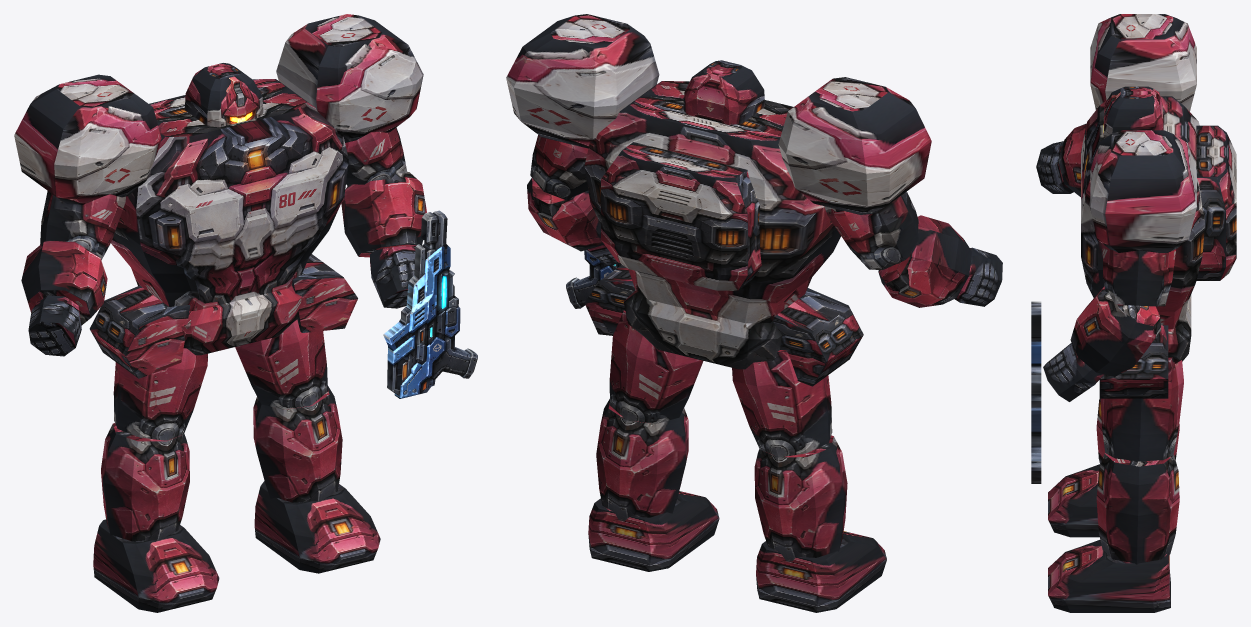
File: painted-bulwark-heavy-v1.glb
3 views of the same model, side by side, from view 1: azimuth 30°, elevation 25°; view 2: azimuth 150°, elevation 25°; view 3: azimuth 270°, elevation 25° (orthographic). The views are drawn at different scales.
Visible parts, largest first — view 1: CORE_chest, CORE_upper_arm.R, CORE_upper_arm.L, CORE_pelvis, CORE_hand.L, CORE_shin.R, CORE_shin.L, CORE_foot.R, CORE_foot.L, CORE_thigh.R, CORE_thigh.L, CORE_forearm.L (+3 smaller); view 2: CORE_chest, CORE_upper_arm.R, CORE_upper_arm.L, CORE_pelvis, CORE_shin.R, CORE_shin.L, CORE_thigh.R, CORE_foot.R, CORE_foot.L, CORE_thigh.L, CORE_forearm.R, CORE_head (+3 smaller); view 3: CORE_upper_arm.L, CORE_chest, CORE_upper_arm.R, CORE_shin.L, CORE_foot.L, CORE_thigh.L, CORE_forearm.L, CORE_hand.L, CORE_pelvis, CORE_foot.R, CORE_head, CORE_forearm.R (+2 smaller).
Boxes of the visible parts, <box> form: CORE_chest: <box>111,79,348,310</box>; CORE_upper_arm.R: <box>14,74,161,260</box>; CORE_upper_arm.L: <box>276,14,423,185</box>; CORE_pelvis: <box>89,254,357,378</box>; CORE_hand.L: <box>370,210,477,398</box>; CORE_shin.R: <box>101,423,189,541</box>; CORE_shin.L: <box>253,385,342,502</box>; CORE_foot.R: <box>93,519,219,612</box>; CORE_foot.L: <box>254,481,380,573</box>; CORE_thigh.R: <box>113,348,207,440</box>; CORE_thigh.L: <box>235,319,327,409</box>; CORE_forearm.L: <box>341,172,426,257</box>; CORE_chest: <box>584,81,840,323</box>; CORE_upper_arm.R: <box>778,77,931,269</box>; CORE_upper_arm.L: <box>506,14,659,200</box>; CORE_pelvis: <box>584,265,863,386</box>; CORE_shin.R: <box>754,435,847,561</box>; CORE_shin.L: <box>596,399,688,520</box>; CORE_thigh.R: <box>732,350,832,457</box>; CORE_foot.R: <box>756,531,886,612</box>; CORE_foot.L: <box>588,491,719,571</box>; CORE_thigh.L: <box>609,310,703,424</box>; CORE_forearm.R: <box>878,215,971,307</box>; CORE_head: <box>683,60,765,124</box>; CORE_upper_arm.L: <box>1090,130,1196,306</box>; CORE_chest: <box>1081,96,1236,329</box>; CORE_upper_arm.R: <box>1090,14,1196,111</box>; CORE_shin.L: <box>1096,453,1179,564</box>; CORE_foot.L: <box>1048,540,1170,612</box>; CORE_thigh.L: <box>1100,357,1183,461</box>; CORE_forearm.L: <box>1070,286,1161,376</box>; CORE_hand.L: <box>1031,301,1103,483</box>; CORE_pelvis: <box>1099,294,1191,398</box>; CORE_foot.R: <box>1048,464,1100,537</box>; CORE_head: <box>1103,86,1163,138</box>; CORE_forearm.R: <box>1057,123,1086,196</box>.
Bounding box in the file's own units: 3.86 × 4.2 × 1.66.
Materials: 1 (1 with a texture image).
